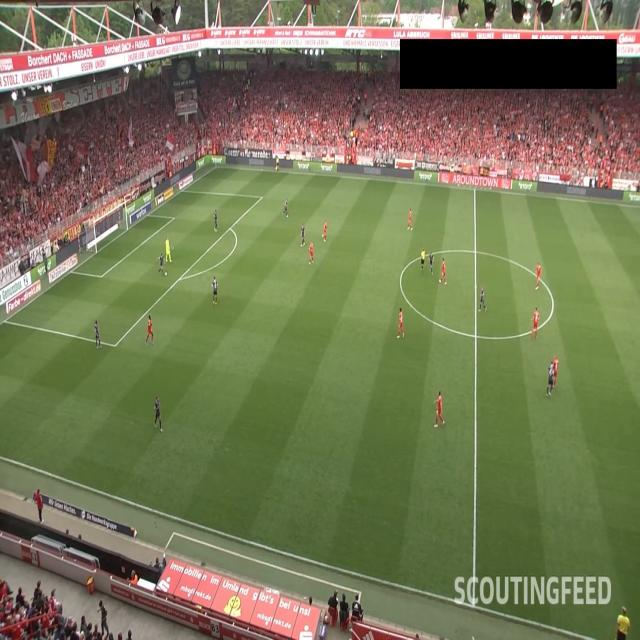ball: (165, 271, 168, 277)
